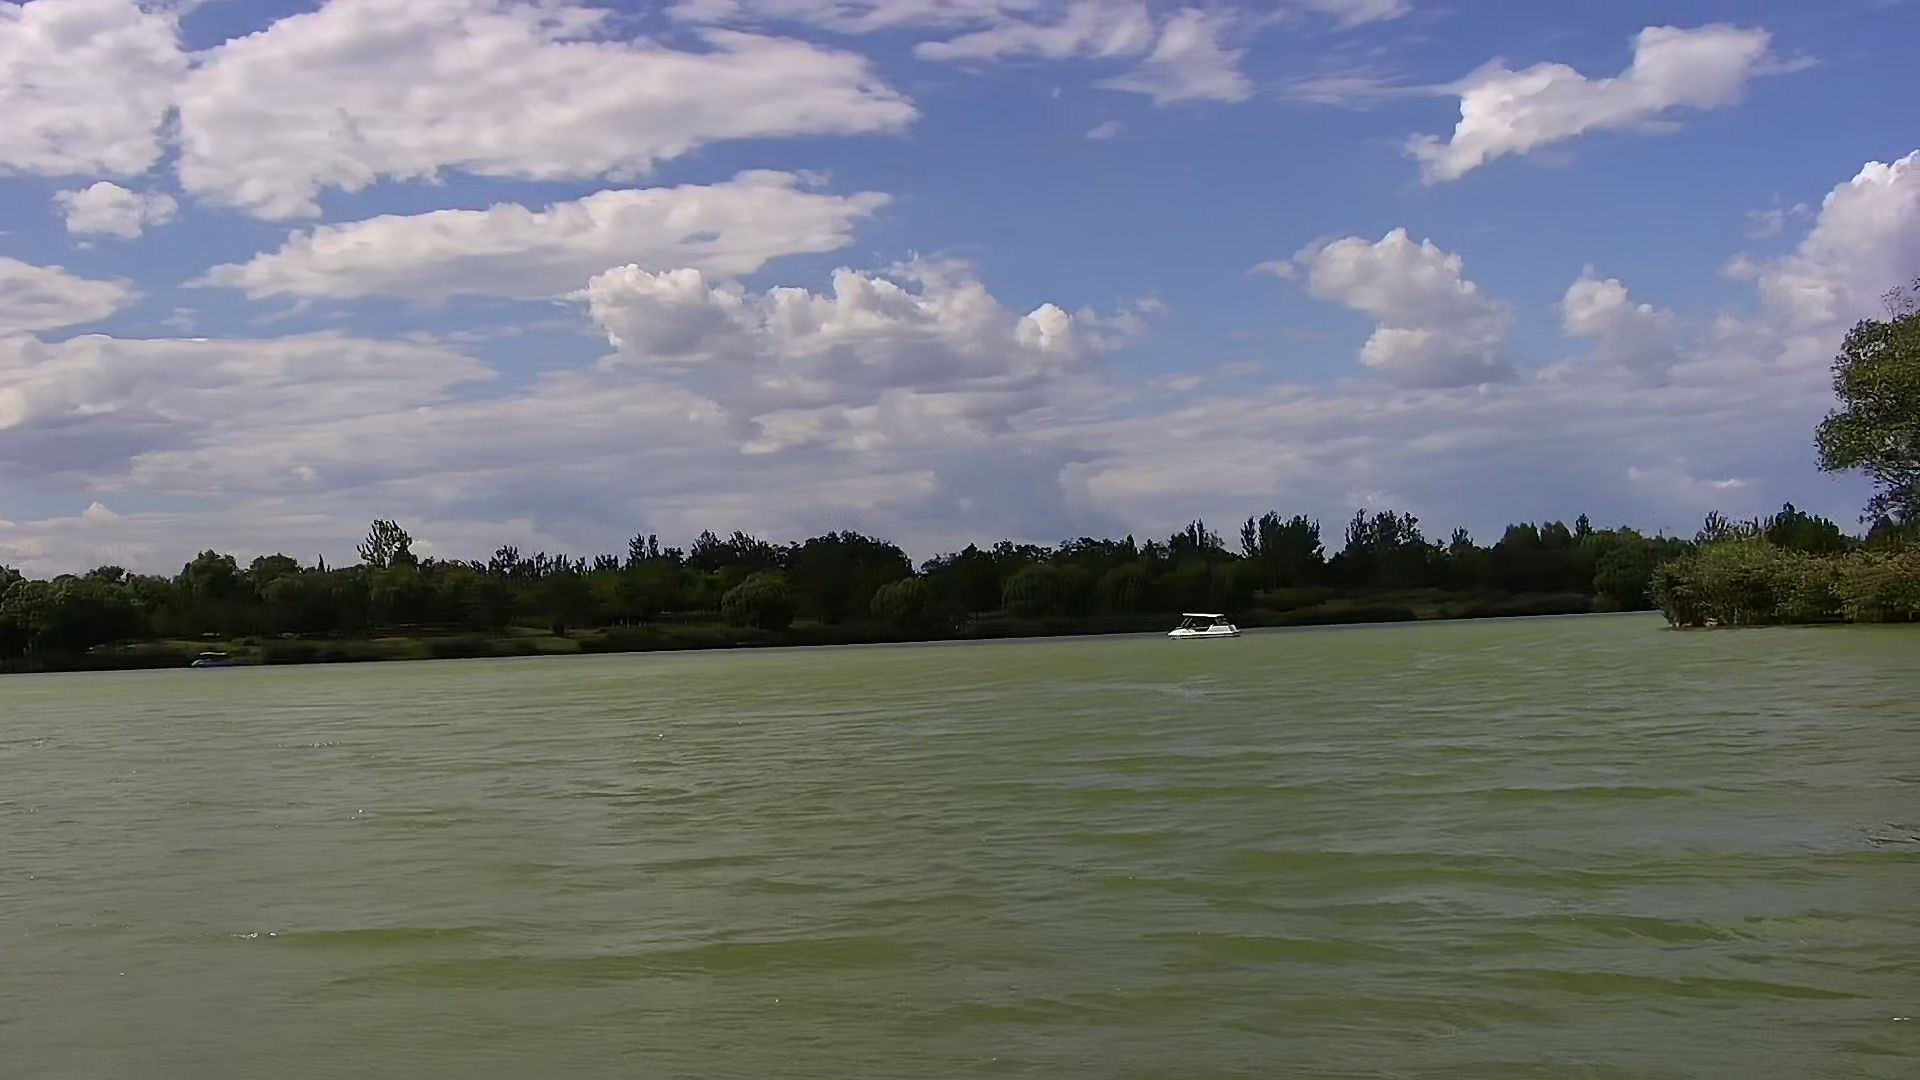boat: (1163, 611, 1246, 641), (189, 647, 243, 673)
